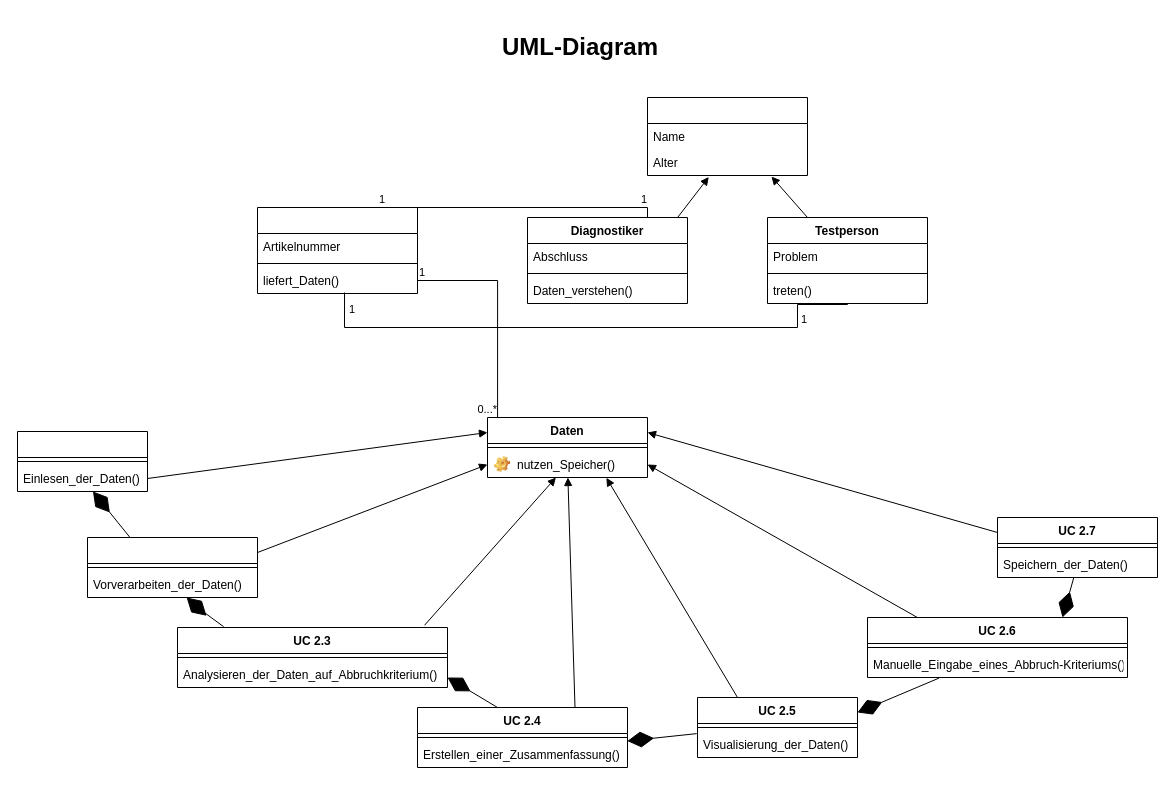
Some shapes in this 1175 by 787 pixel diagram are drawn without their labels. Each missing label, with the box of its shape:
Ergometer: (256, 206, 418, 294)
Personen: (646, 96, 808, 176)
UC 2.1: (16, 430, 148, 492)
UC 2.2: (86, 536, 258, 598)
